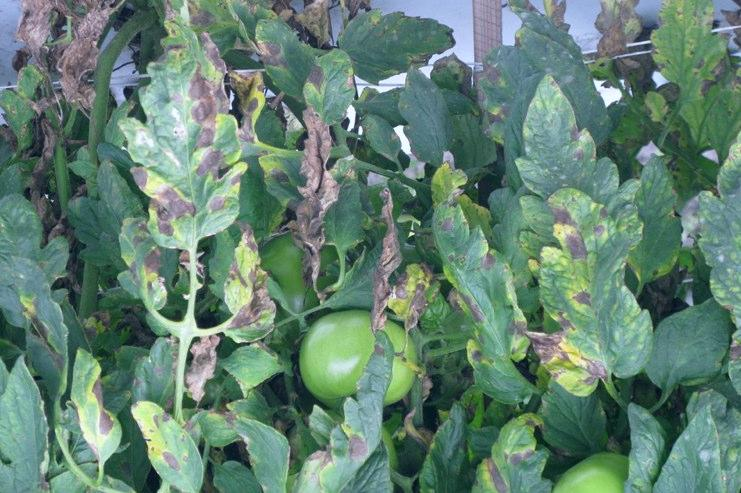Tomato Early blight leaf: (532, 173, 649, 403), (139, 13, 249, 246), (447, 153, 526, 421), (292, 337, 399, 493), (700, 113, 741, 331), (205, 241, 287, 341), (454, 414, 553, 493), (145, 387, 206, 493), (120, 193, 170, 314), (67, 355, 124, 458), (301, 44, 361, 121)
